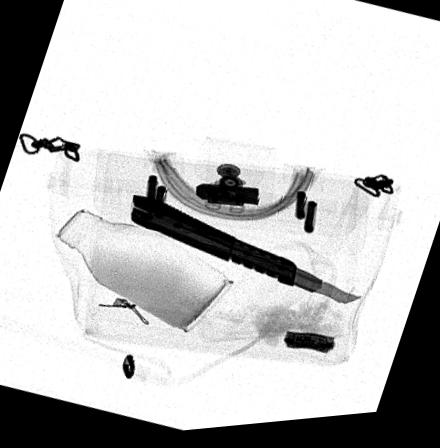Knife: (129, 195, 361, 311)
